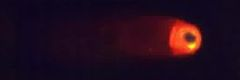keyhole: (182, 30, 197, 46)
